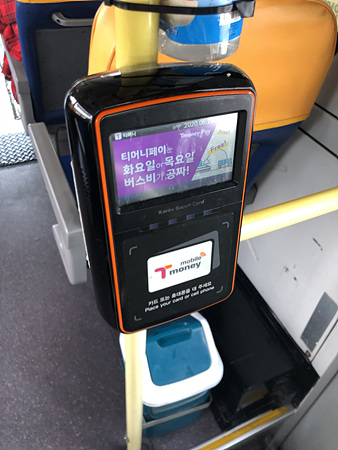terminal: (69, 65, 245, 323)
